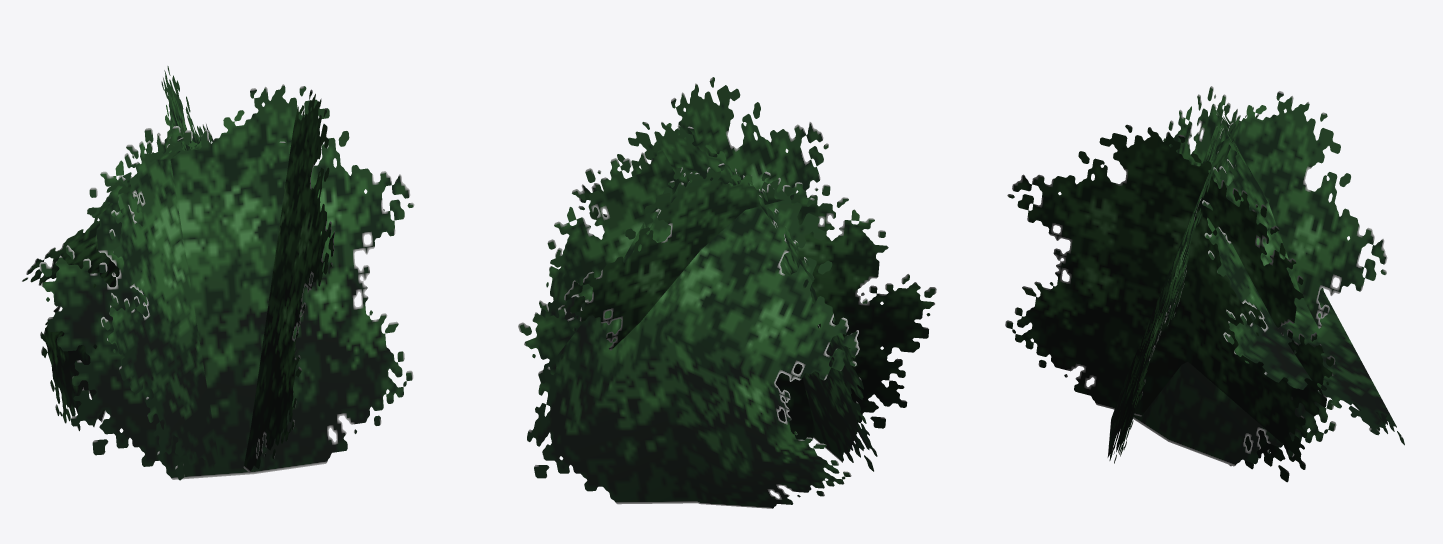
The model's file is bush2.fbx.
The picture shows the model from 3 angles, left to right: view 1: azimuth 30°, elevation 25°; view 2: azimuth 150°, elevation 25°; view 3: azimuth 270°, elevation 25°; orthographic projection.
Visible parts, largest first — view 1: Plane.055; view 2: Plane.055; view 3: Plane.055.
Part boxes in pixels (box(x1,y1,x2,y2)): Plane.055: box(22, 66, 414, 480); Plane.055: box(518, 77, 936, 508); Plane.055: box(1005, 86, 1404, 482).
Size of the model in its own units: 162 by 166 by 162.
1 material, 1 textured.
